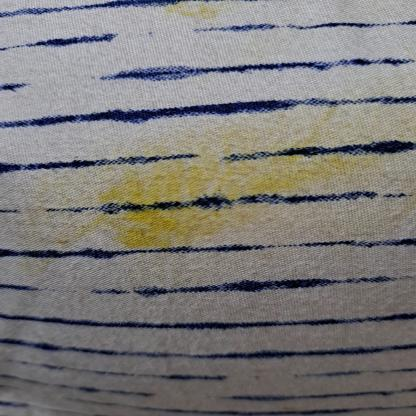spot: (28, 71, 405, 287)
